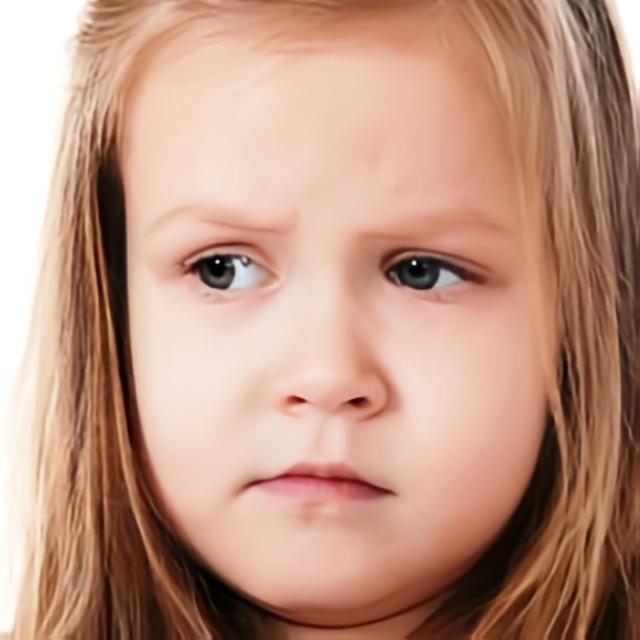anger: (122, 63, 557, 616)
